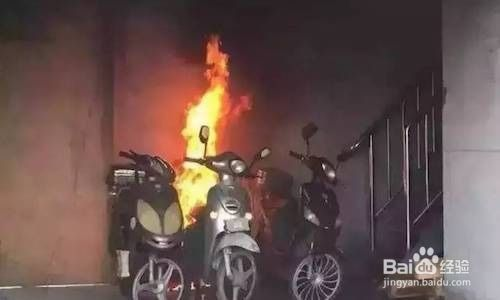fire: (177, 29, 238, 221)
